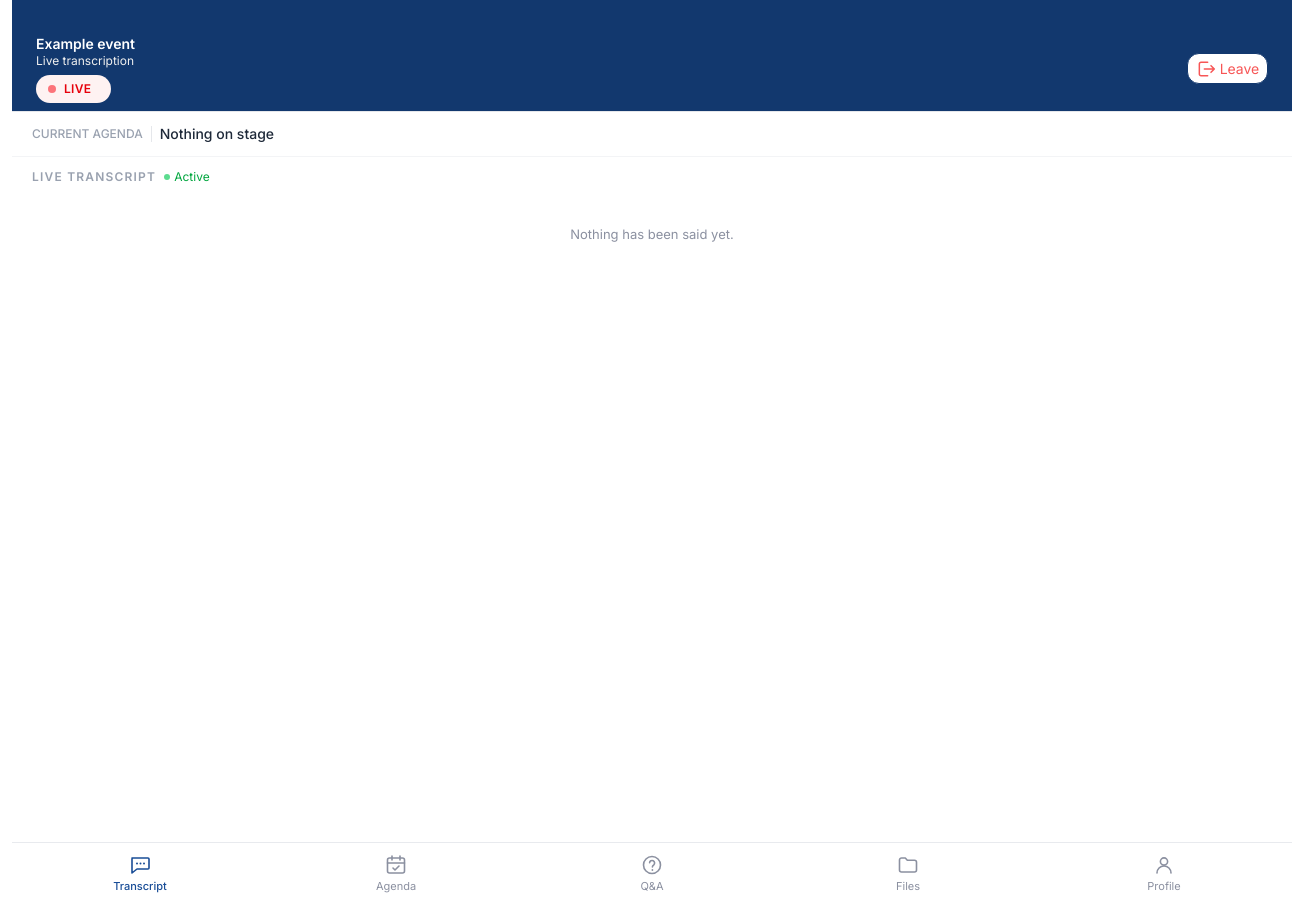
Test: the day filter inside the live room › keeps every chip its own width, with the label on one line
The image size is (1304, 900).
Click the button "Agenda": x=396, y=872 [268, 843, 524, 899]
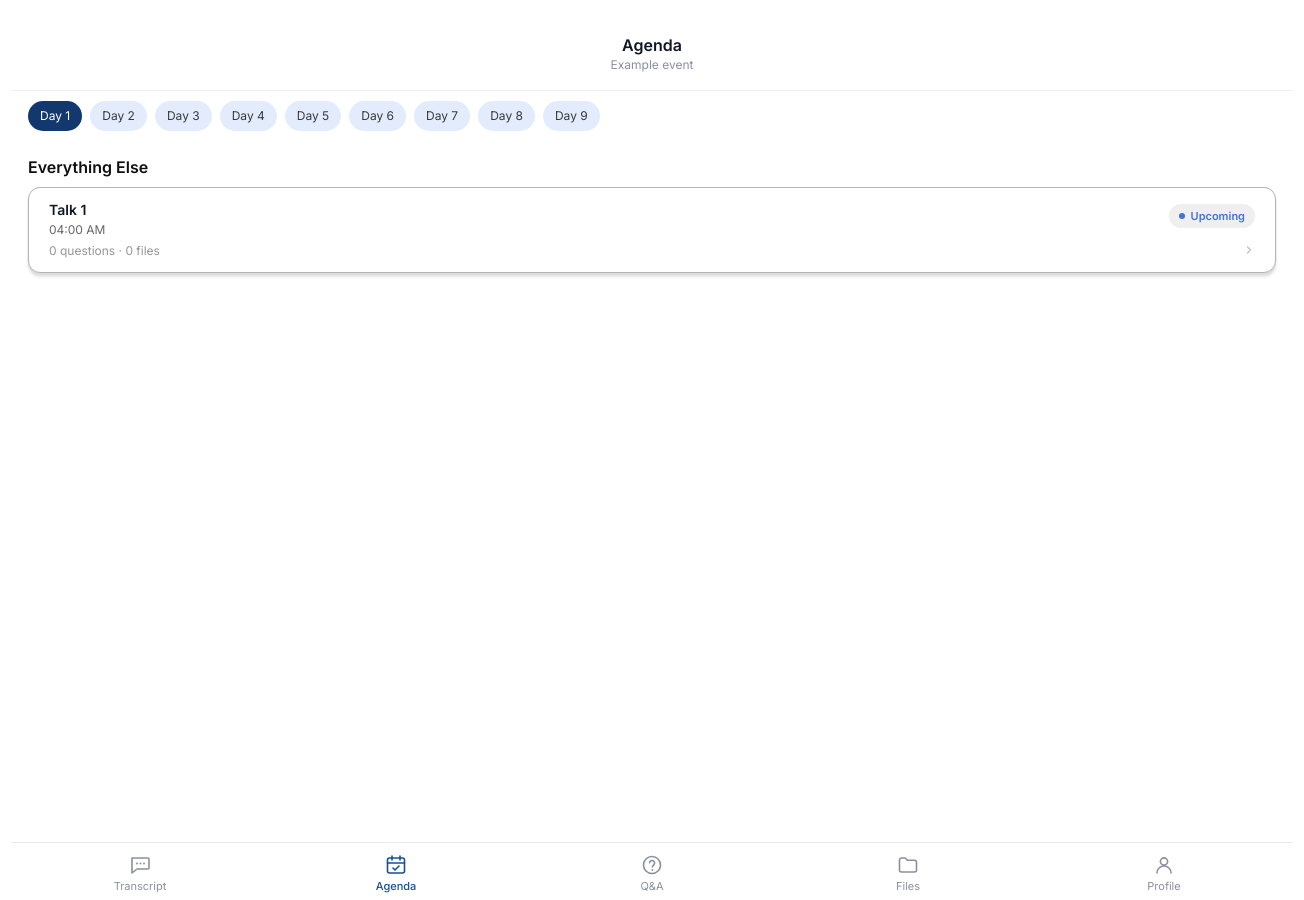
Check: the button "Day 1" is shown, box [28, 101, 82, 131]
